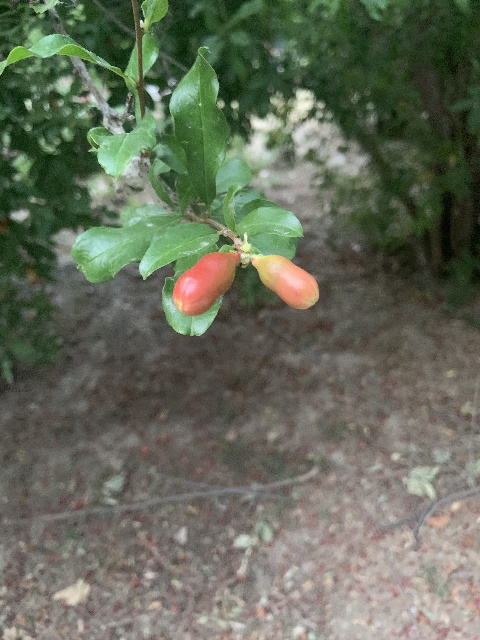bud: (172, 251, 237, 317), (252, 253, 318, 310)
